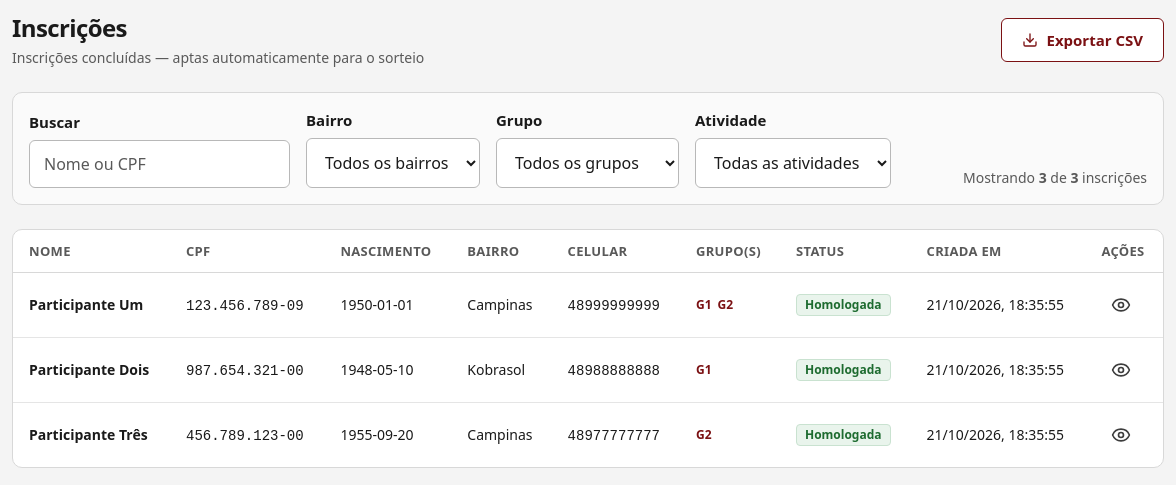
Test: RegistrationsPage — filtros › filtra por grupo
The width and height of the screenshot is (1176, 485).
Expected: the text "Participante Um" is shown, [29,295,154,315]
Select "Somente Grupo 1" in the dropdown labelled "Grupo" at (588, 162), box [496,138,679,188]
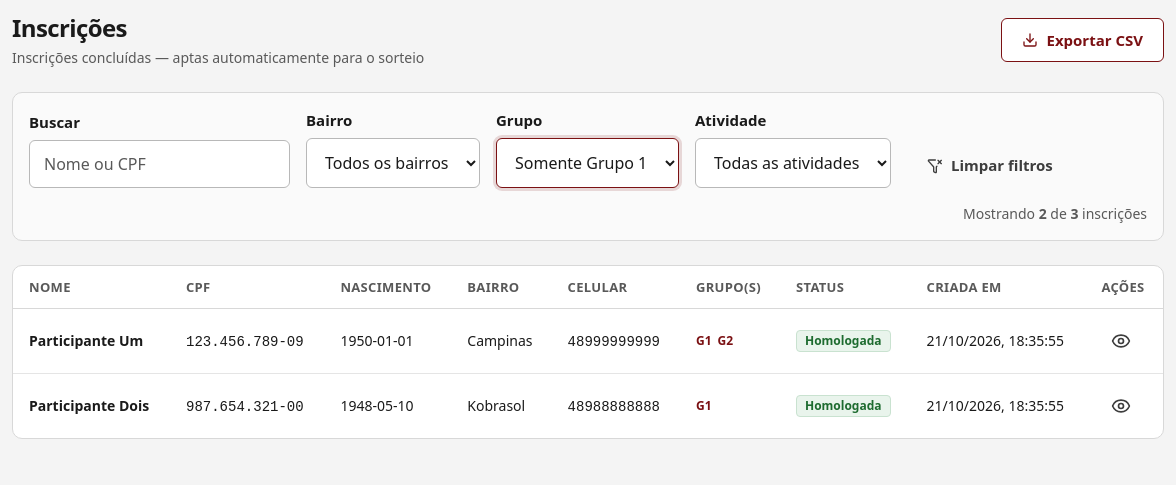
Expected: the element showing "Mostrando 2 de 3 inscrições" is shown, [963,204,1147,224]
Select "Ambos os grupos" in the dropdown labelled "Grupo" at (588, 162), box [496,138,679,188]
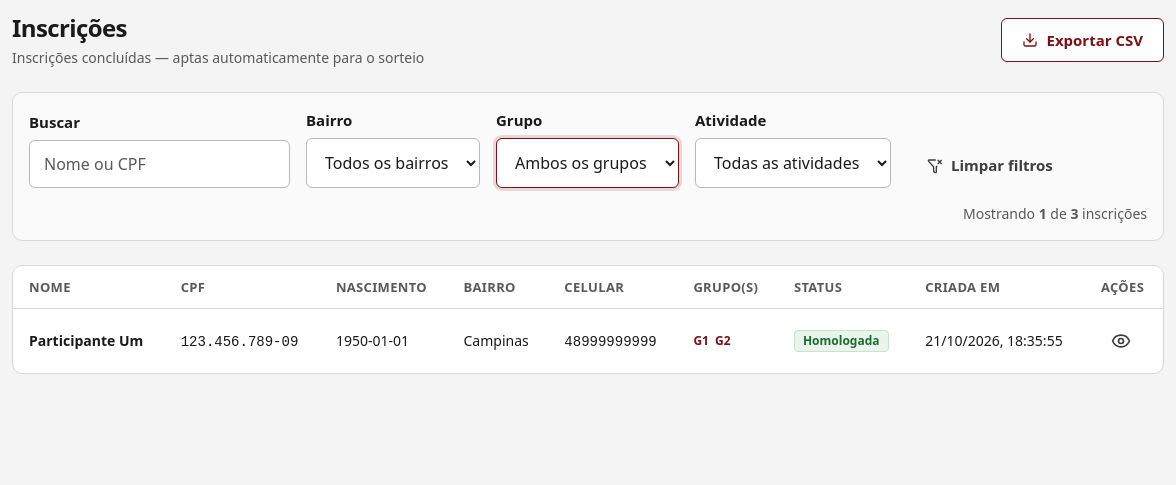
Expected: the text "Participante Um" is shown, [29,331,149,351]
Expected: the element showing "Mostrando 1 de 3 inscrições" is shown, [963,204,1147,224]
